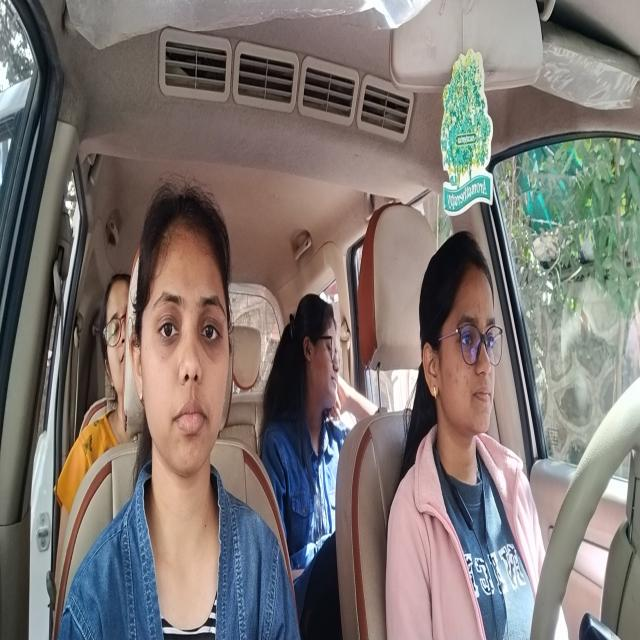person: (137, 181, 235, 509), (421, 232, 502, 458), (297, 291, 342, 425), (102, 262, 129, 402)
